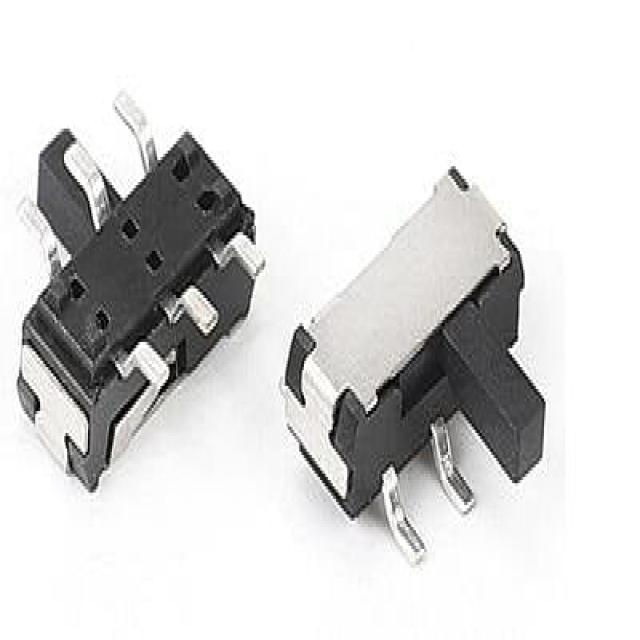switch: (280, 160, 547, 566), (24, 103, 270, 499)
